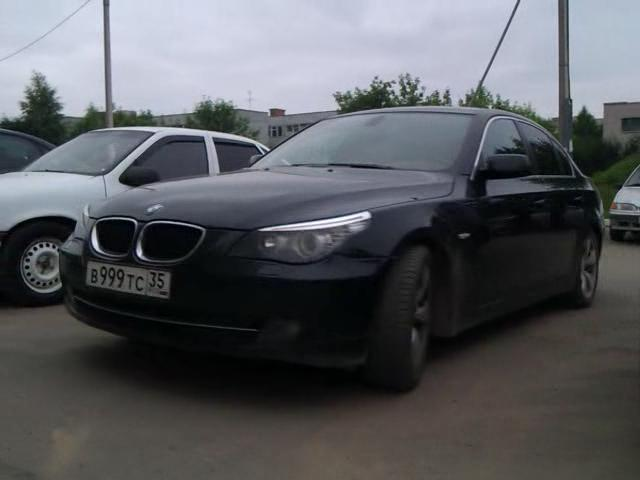car license plate: (84, 258, 174, 306)
